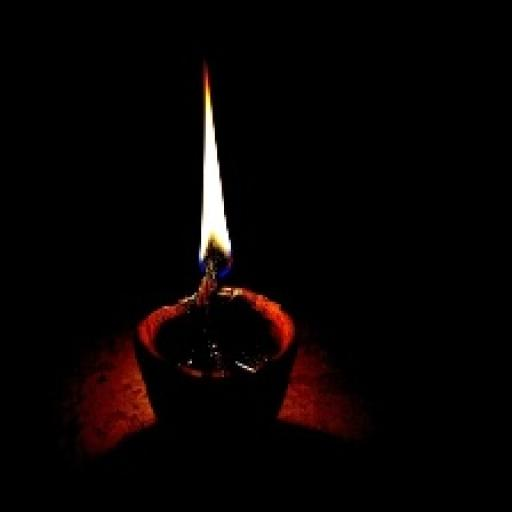fire and smoke: (199, 64, 229, 274)
